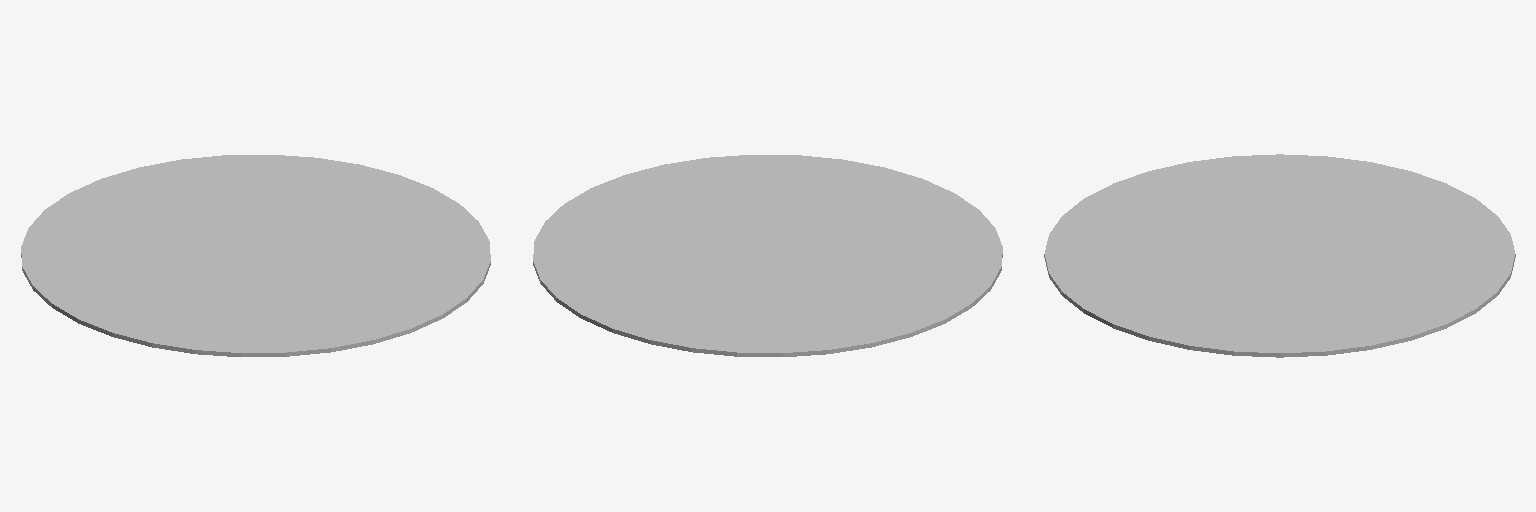
The model's file is melee3_col.obj.
3 views of the same model, side by side, from view 1: azimuth 30°, elevation 25°; view 2: azimuth 150°, elevation 25°; view 3: azimuth 270°, elevation 25° (orthographic).
Parts seen in each view (by area): view 1: Cylinder; view 2: Cylinder; view 3: Cylinder.
Part boxes in pixels (x1,y1,x2,y2): Cylinder: (21, 155, 490, 356); Cylinder: (533, 155, 1002, 356); Cylinder: (1044, 154, 1515, 357).
Bounding box in the file's own units: 0.5 × 0.005 × 0.5.